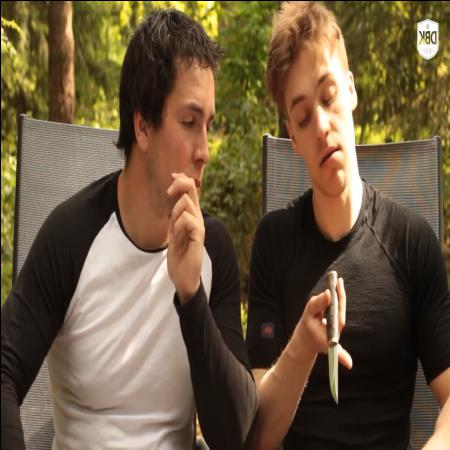long weapon: (310, 260, 354, 414)
